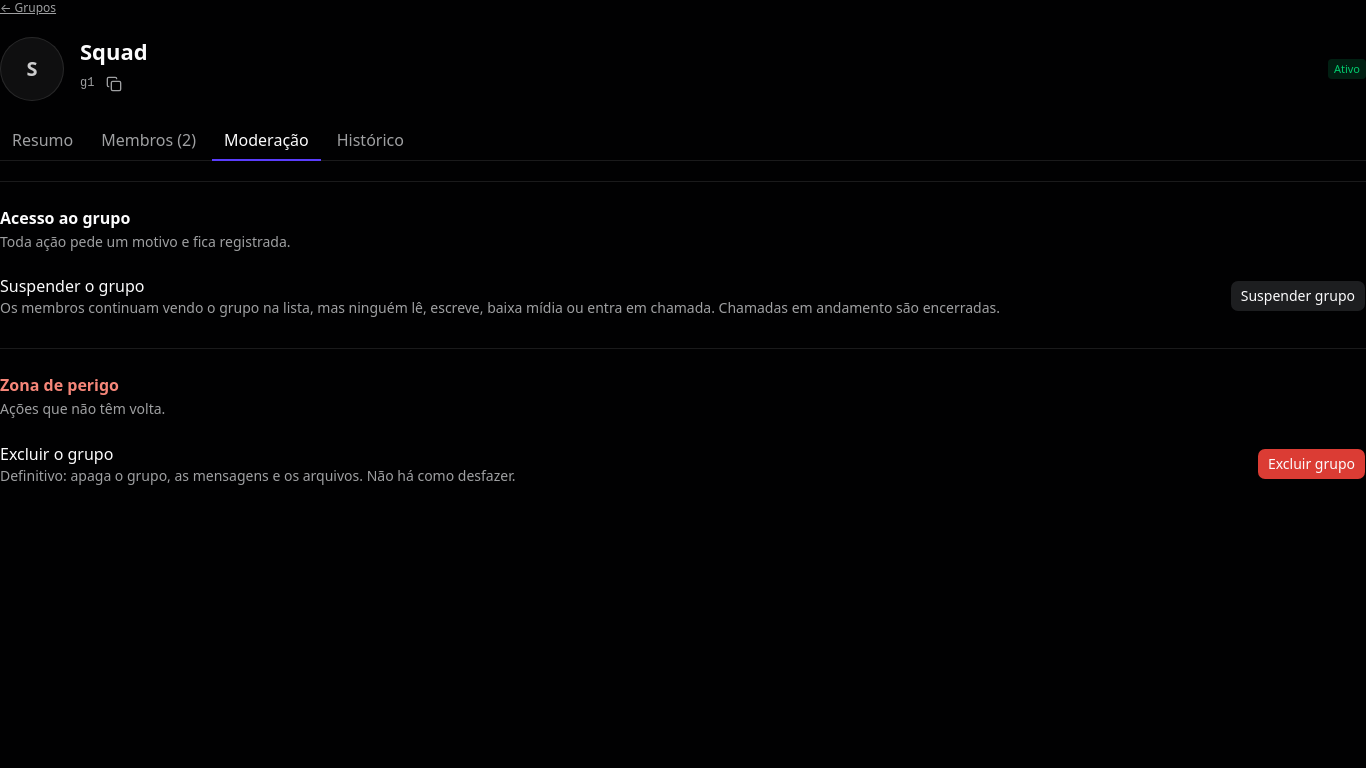
it: GroupDetailPage › suspending a group that was already suspended explains the conflict and catches the screen up
The width and height of the screenshot is (1366, 768).
Click the button "Suspender grupo".
click(1298, 296)  # box [1230,280,1365,312]
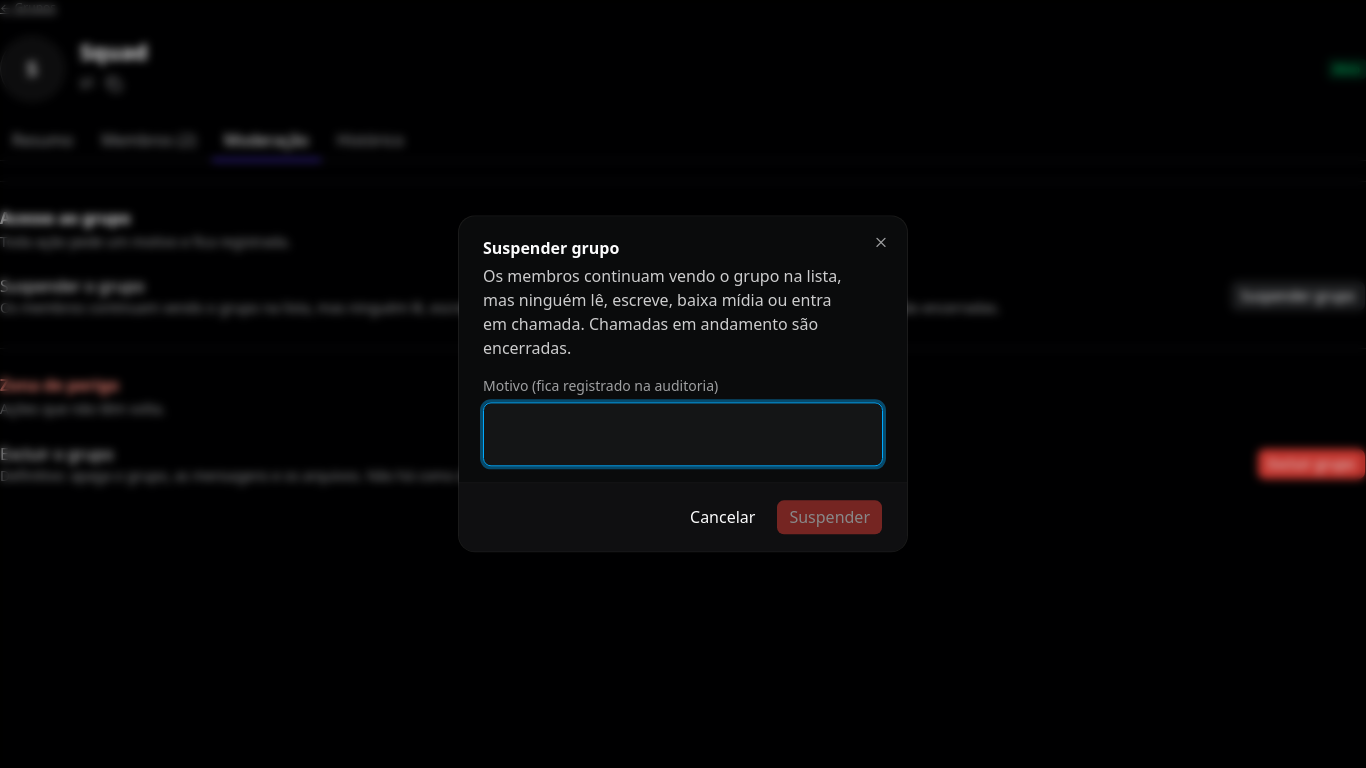
Type "confirmed report" into the text box labelled "Motivo (fica registrado na auditoria)".
click(683, 435); type("confirmed report")  # box [483,403,883,467]
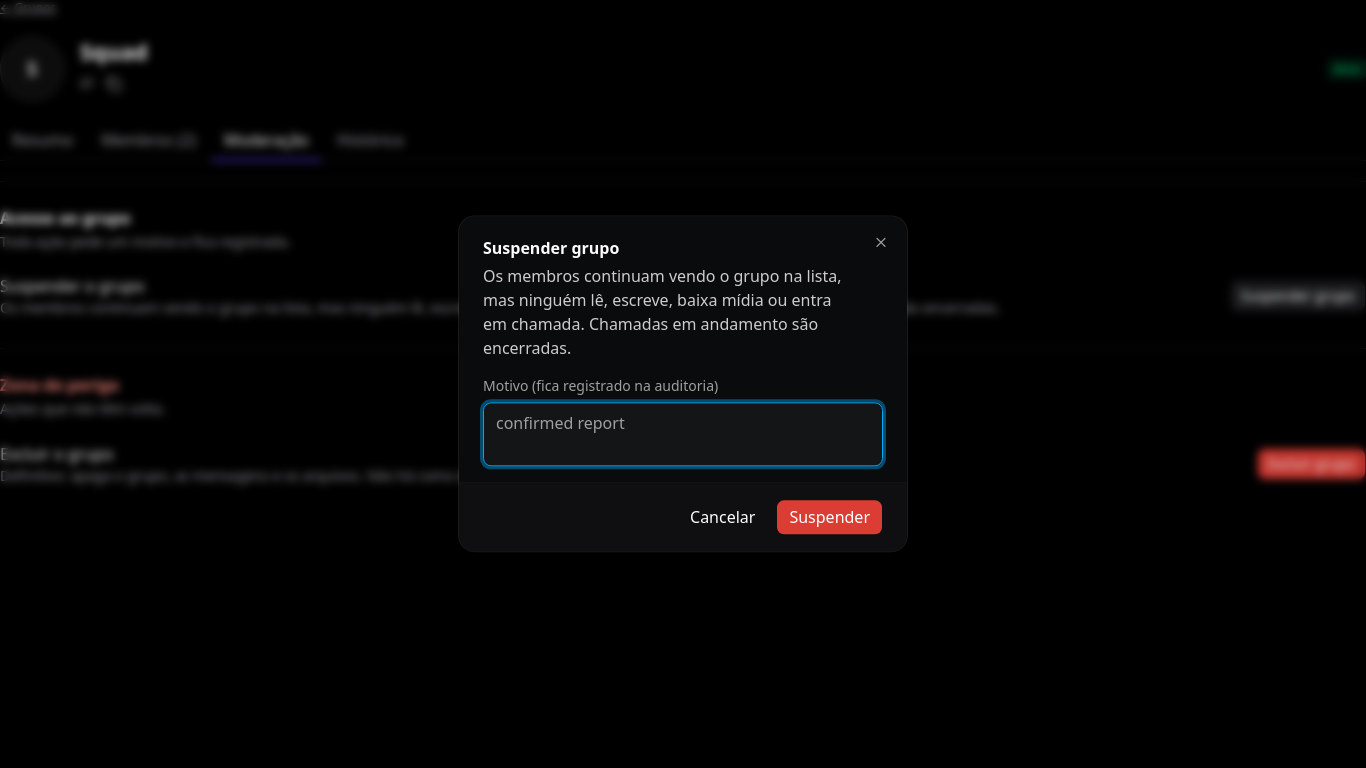
Click the button "Suspender".
click(830, 518)  # box [776,500,883,536]
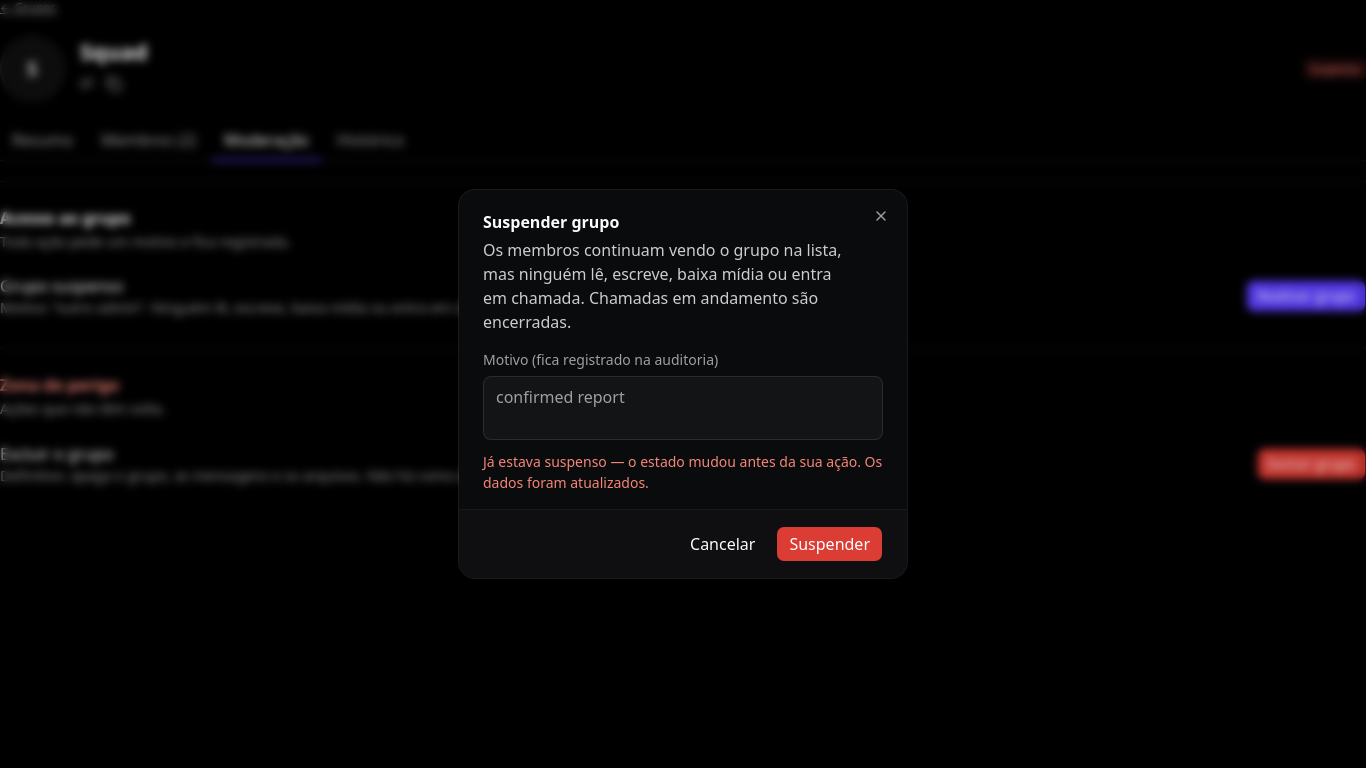
Result: the message shows "Já estava suspenso" at [483,452,882,492]
